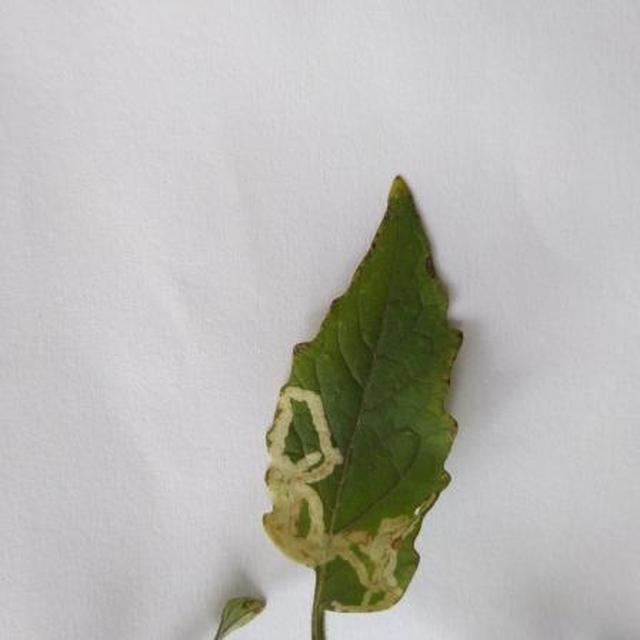Leaf Miner: (363, 255, 640, 640)
